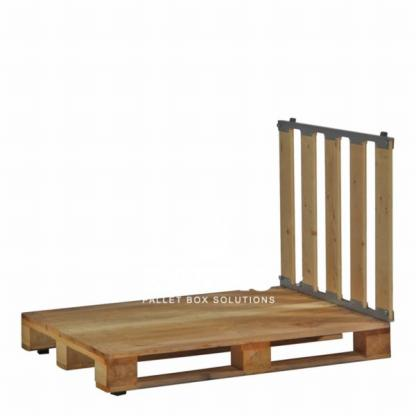BoxFace: (19, 286, 394, 395)
